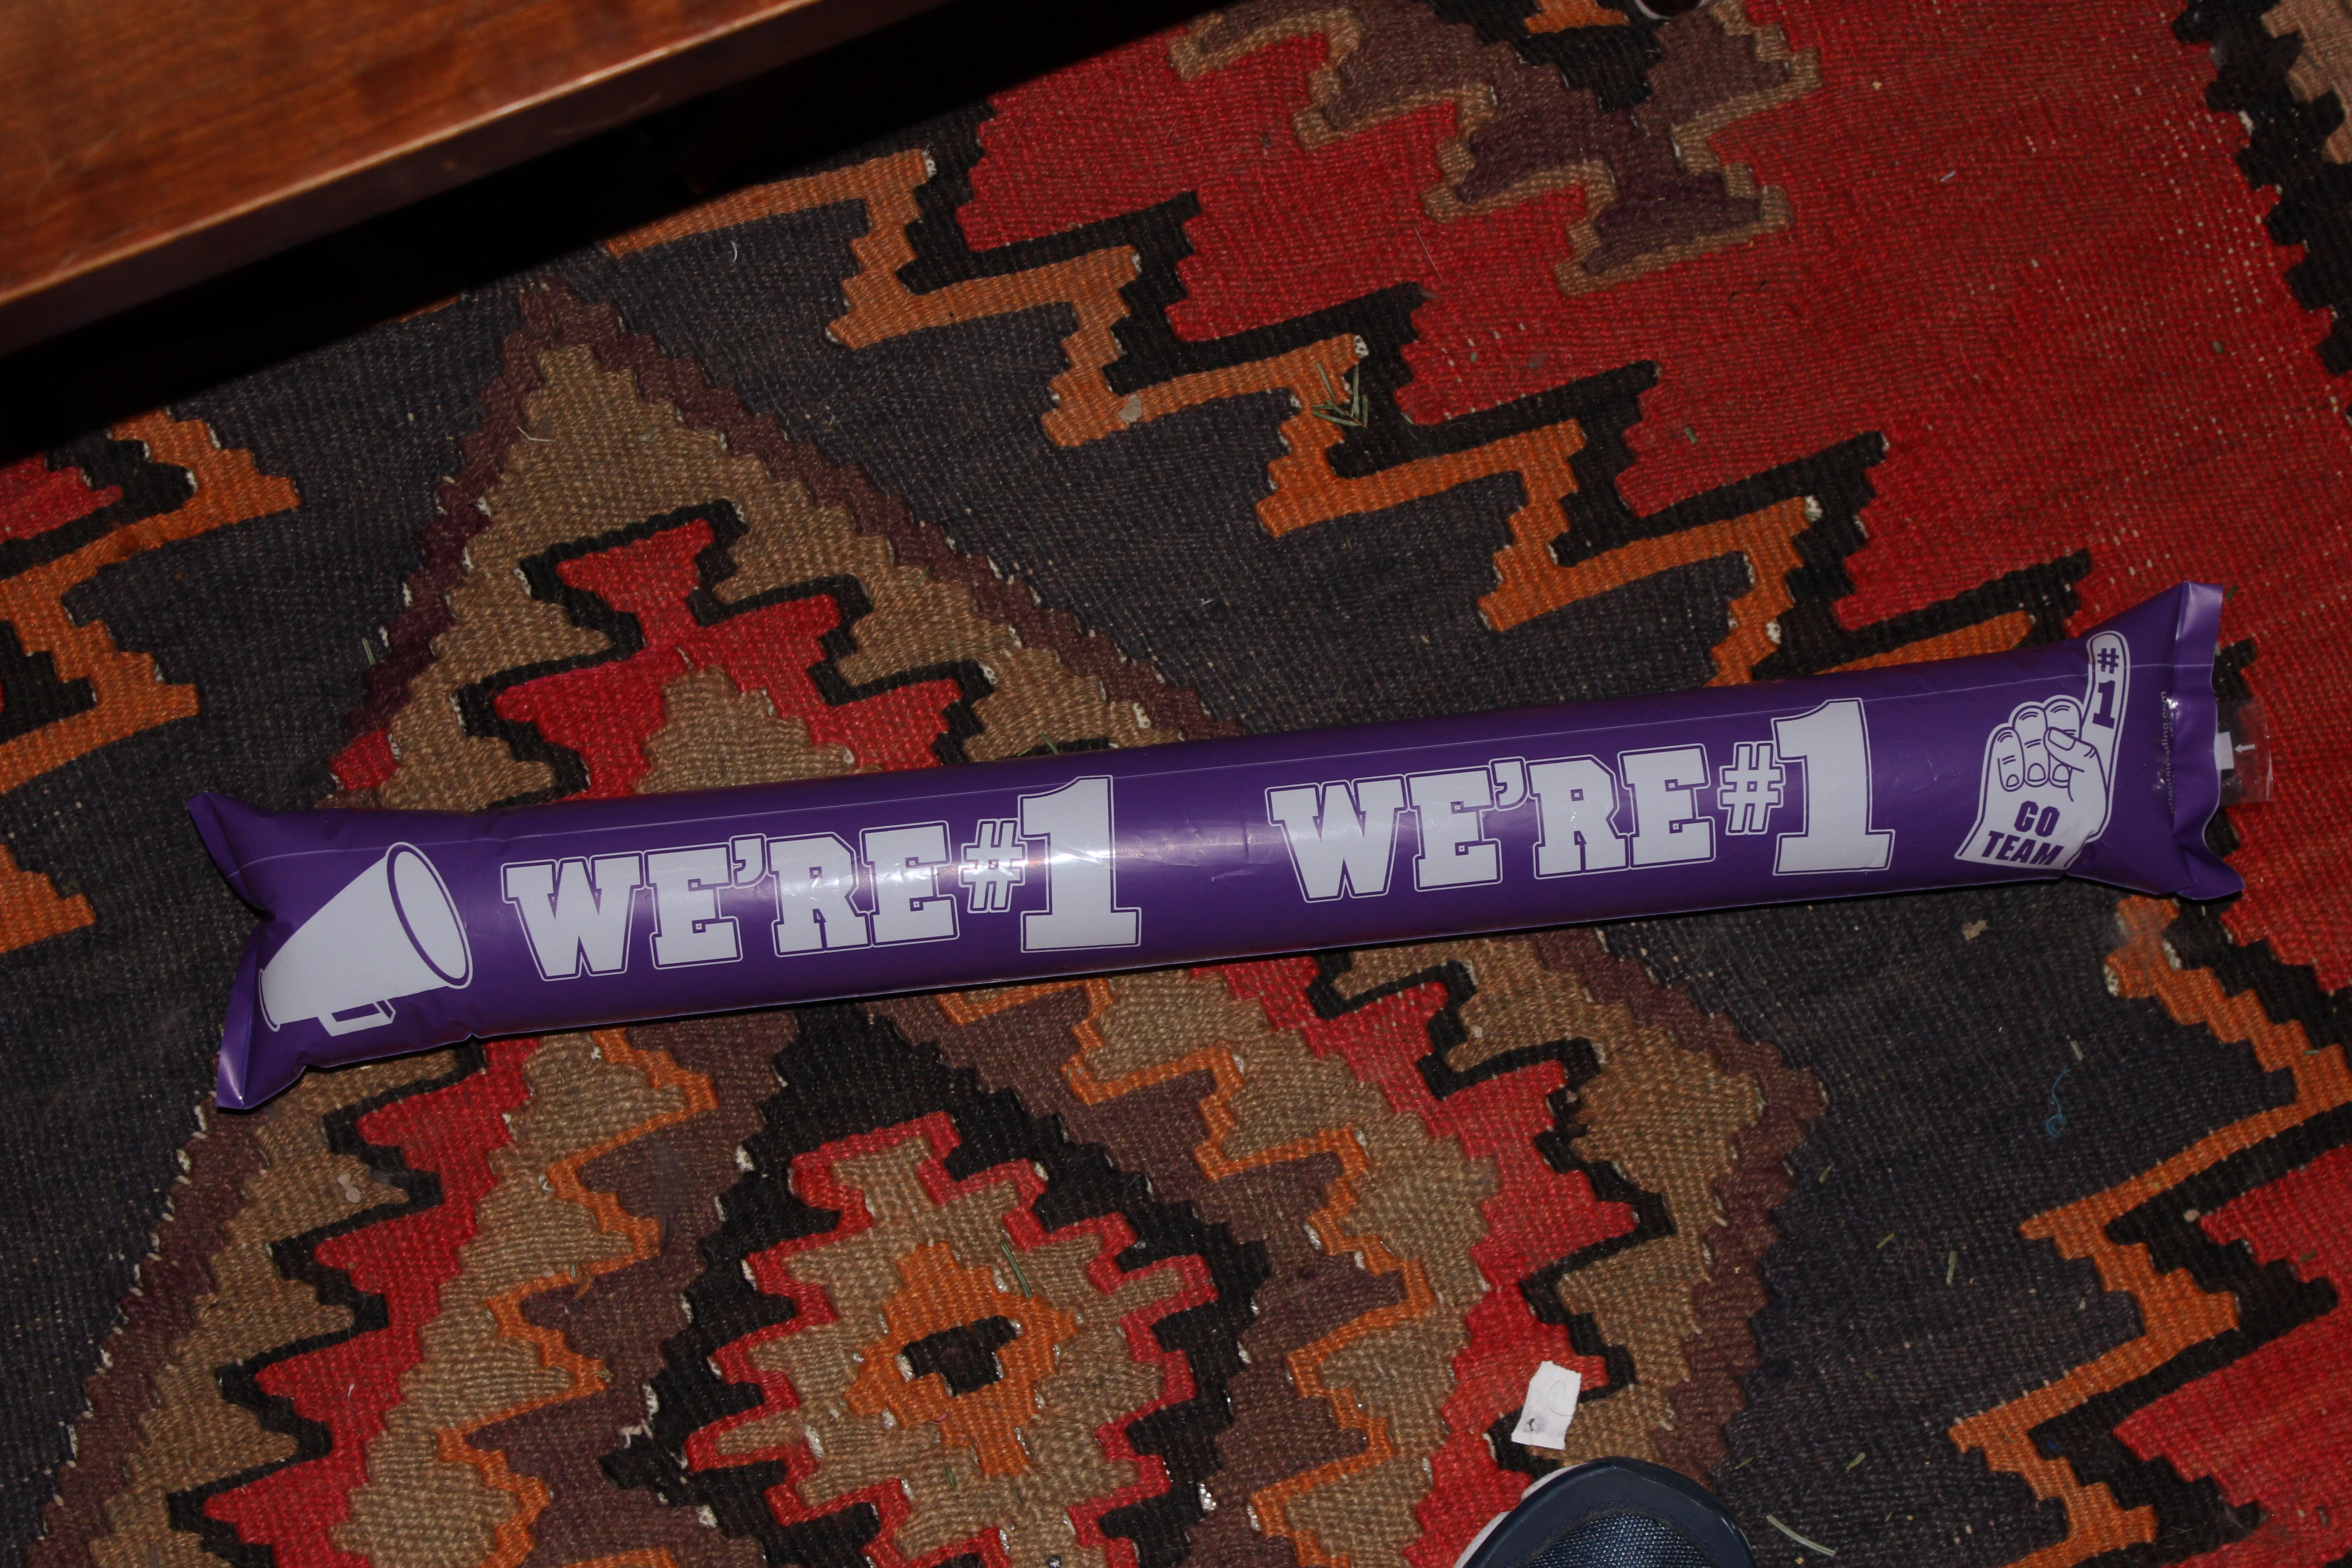noisemaker: (163, 520, 2285, 1171)
